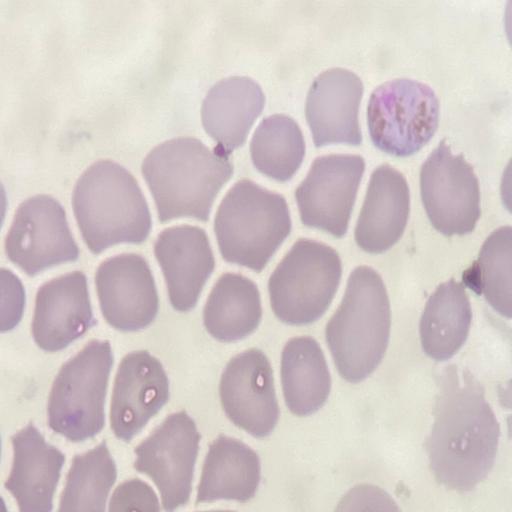Infected: (367, 77, 439, 155)
Uninfected: (140, 136, 233, 223), (327, 266, 390, 382), (73, 159, 149, 249), (44, 339, 112, 439), (216, 179, 290, 269), (133, 410, 196, 511), (6, 195, 82, 275), (270, 241, 342, 325), (293, 155, 365, 237), (109, 349, 173, 438), (421, 141, 481, 234), (219, 347, 281, 437), (31, 271, 97, 354), (6, 424, 67, 512), (302, 67, 364, 151), (156, 224, 214, 311), (200, 77, 267, 152), (354, 164, 411, 251), (94, 253, 157, 330), (418, 279, 473, 357), (281, 337, 333, 418), (197, 437, 260, 503), (62, 441, 119, 512), (203, 273, 259, 342), (251, 113, 305, 180)
